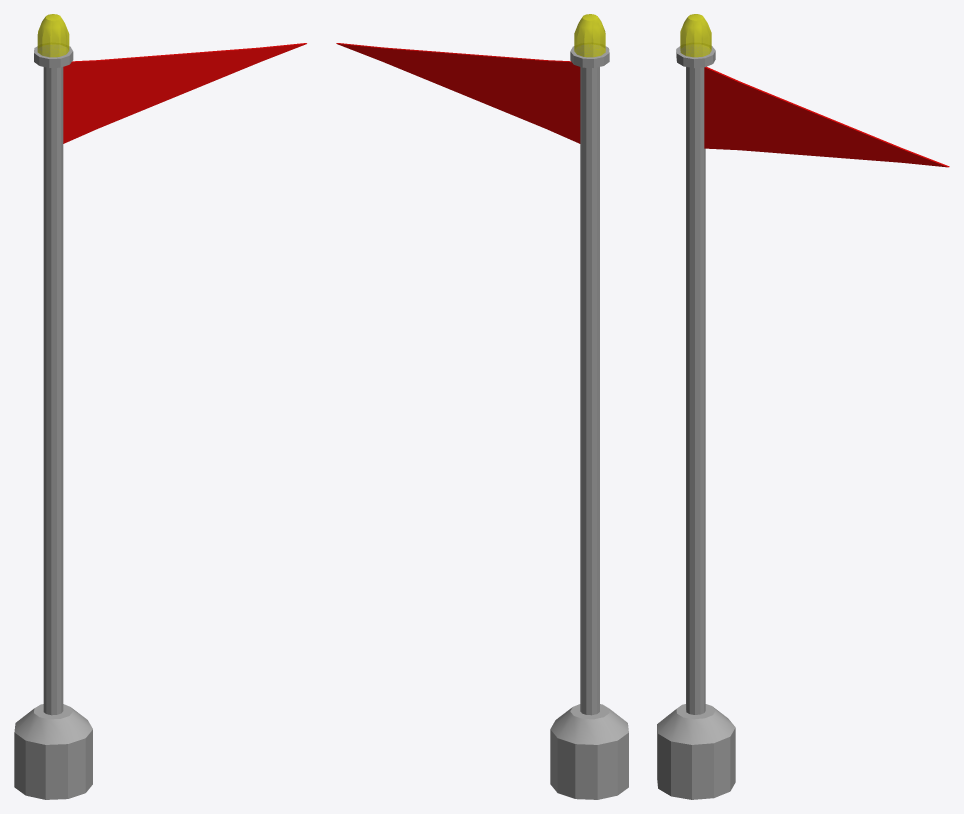
Rendered from THE flag.fbx.
The picture shows the model from 3 angles, left to right: view 1: azimuth 30°, elevation 25°; view 2: azimuth 150°, elevation 25°; view 3: azimuth 330°, elevation 25°; orthographic projection.
Visible parts, largest first — view 1: flag; view 2: flag; view 3: flag.
Boxes of the visible parts, x1,y1,x2,y2 form: flag: [14, 14, 306, 799]; flag: [336, 14, 628, 799]; flag: [657, 14, 949, 799].
Size of the model in its own units: 0.8296 by 2.12 by 0.198.
